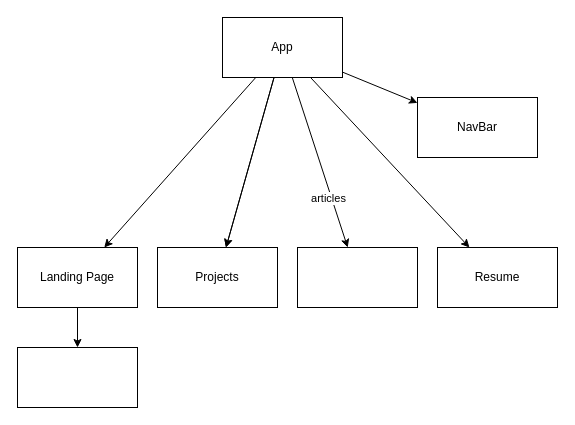
Image size: 575x425. Some labels were removed from this diagram. The centre of each missing label's shape, as x and y in pixels:
"Blog" belongs at (357,277).
"Footer" belongs at (77,377).
